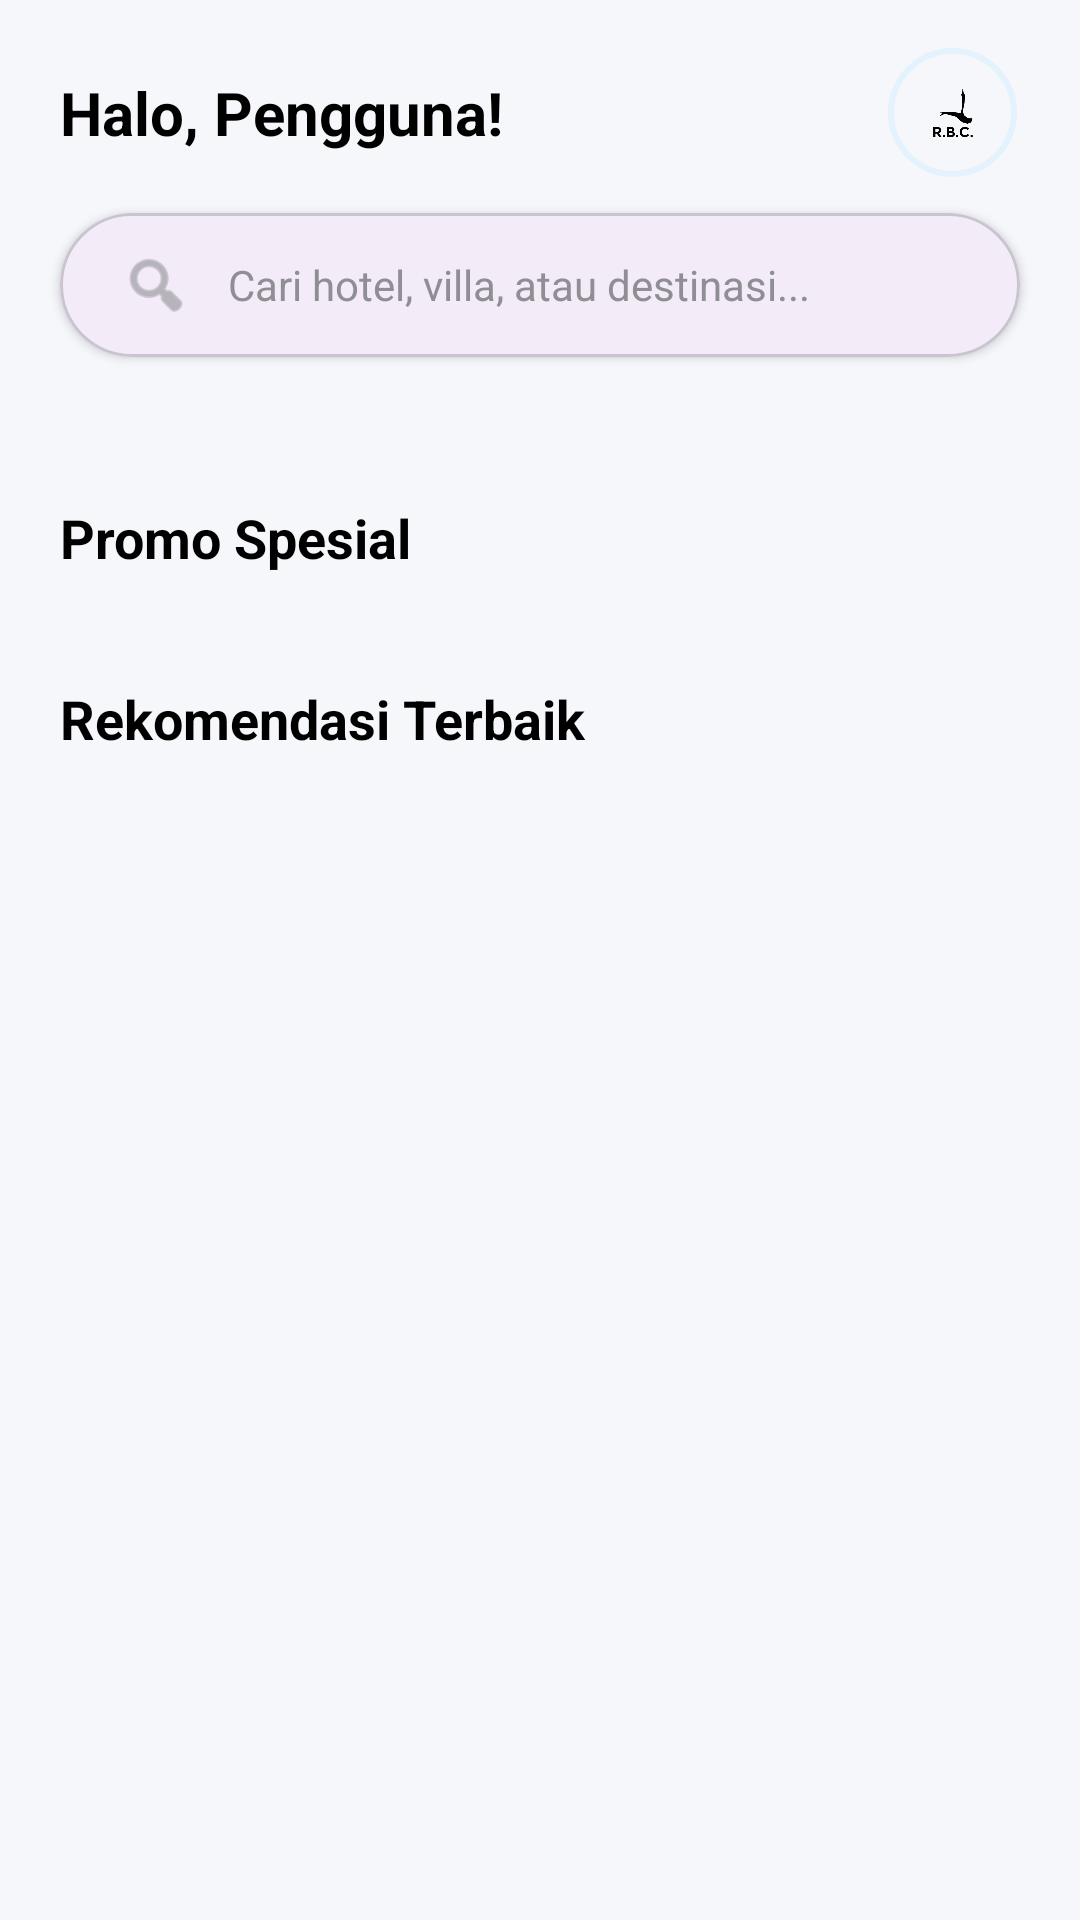

Point at icon controls on the screen. Image size 1080×1920, points as [x,y].
search: [156,285]
